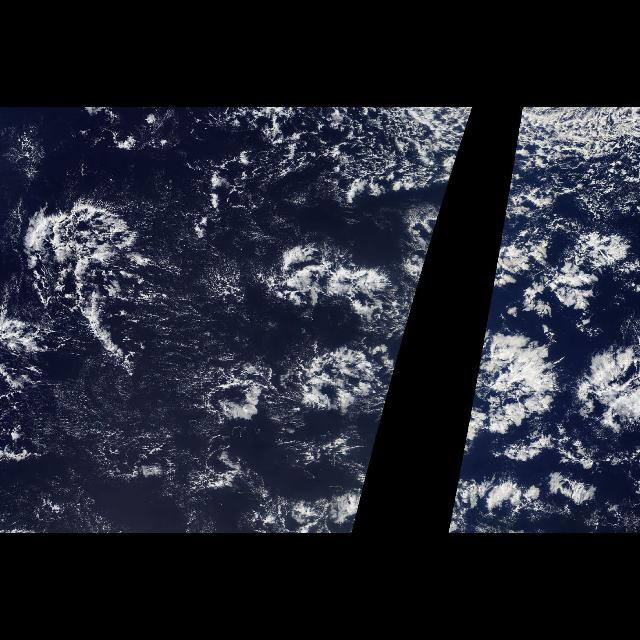Flower: (198, 222, 438, 442), (464, 209, 640, 465)
Sugar: (47, 330, 265, 480)
